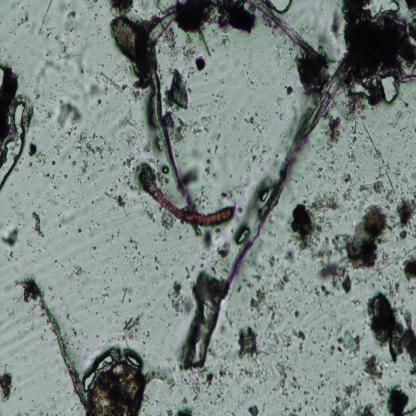Air bubble: (0, 101, 28, 190), (83, 351, 114, 391), (363, 0, 400, 23), (381, 76, 399, 106), (268, 0, 292, 16), (124, 353, 141, 366), (236, 228, 250, 243), (260, 188, 269, 204)
Background material: (340, 0, 416, 91), (82, 345, 176, 416), (178, 274, 231, 372), (368, 290, 416, 373), (109, 1, 153, 88), (336, 200, 390, 269), (286, 191, 338, 252), (178, 1, 258, 39), (70, 131, 113, 182), (0, 51, 20, 141), (44, 41, 91, 79), (329, 374, 365, 416), (294, 56, 330, 97), (162, 24, 196, 65), (387, 192, 416, 238), (363, 352, 389, 398), (120, 114, 152, 151), (272, 358, 302, 397), (322, 258, 354, 294), (166, 67, 192, 110), (238, 325, 265, 365), (242, 137, 272, 172), (168, 276, 194, 316), (341, 94, 378, 122), (124, 152, 146, 198), (206, 365, 230, 405), (387, 383, 416, 416), (123, 234, 145, 277), (218, 177, 254, 202), (181, 367, 205, 403), (250, 284, 272, 323), (118, 313, 147, 342), (266, 309, 283, 357), (166, 105, 187, 143), (146, 156, 172, 186), (337, 328, 363, 358), (145, 366, 176, 391), (315, 29, 334, 69), (94, 72, 126, 95), (58, 96, 84, 124), (213, 238, 232, 276), (239, 364, 275, 384), (324, 110, 342, 148), (209, 338, 235, 364), (104, 190, 132, 213), (355, 178, 387, 198), (374, 148, 394, 178), (0, 223, 21, 251), (17, 277, 38, 305), (85, 81, 108, 105), (193, 226, 214, 252), (244, 111, 266, 134), (120, 84, 145, 104), (157, 214, 175, 241), (341, 170, 356, 202), (291, 326, 307, 355), (275, 266, 296, 288), (400, 254, 416, 282), (0, 372, 14, 404), (303, 388, 320, 414), (316, 158, 336, 180), (191, 113, 210, 136), (67, 6, 82, 34), (39, 170, 59, 191), (64, 262, 86, 281), (348, 121, 358, 162), (330, 5, 341, 41), (66, 309, 80, 337), (382, 278, 402, 297), (32, 210, 45, 238), (175, 397, 194, 416), (220, 310, 235, 334), (353, 401, 376, 416), (283, 401, 305, 416), (314, 282, 332, 299), (250, 263, 266, 282), (24, 104, 34, 132), (237, 277, 254, 293), (18, 8, 32, 27), (204, 146, 212, 179), (274, 97, 285, 120), (144, 203, 156, 224), (120, 284, 131, 306), (105, 228, 121, 243), (322, 322, 334, 341), (100, 283, 109, 308), (182, 170, 198, 184), (194, 54, 206, 72), (389, 111, 403, 126), (34, 151, 46, 168), (317, 371, 328, 389), (27, 139, 37, 158), (284, 248, 297, 262), (246, 403, 260, 416), (213, 134, 222, 154), (184, 262, 196, 277), (404, 284, 415, 298), (282, 333, 292, 348), (243, 386, 256, 397), (401, 172, 411, 186), (406, 376, 416, 389), (154, 255, 160, 273), (165, 404, 174, 416), (404, 100, 412, 113), (46, 109, 55, 120), (393, 167, 401, 179), (400, 124, 408, 136), (268, 255, 276, 266), (285, 86, 293, 96), (7, 310, 17, 318), (378, 270, 384, 283), (16, 411, 30, 416), (9, 251, 15, 262), (293, 308, 299, 319), (78, 225, 84, 235), (330, 344, 335, 356), (92, 245, 98, 254), (142, 394, 147, 402), (50, 160, 56, 166)
Cellulose filter fibre: (229, 58, 354, 283), (144, 11, 190, 205), (29, 277, 88, 408), (245, 0, 324, 60)
Hair textile: (142, 176, 238, 227)
